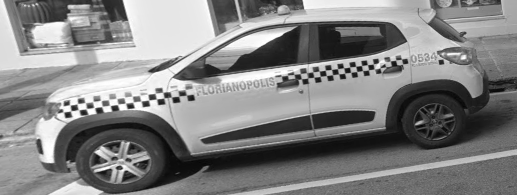car: (33, 8, 494, 191)
